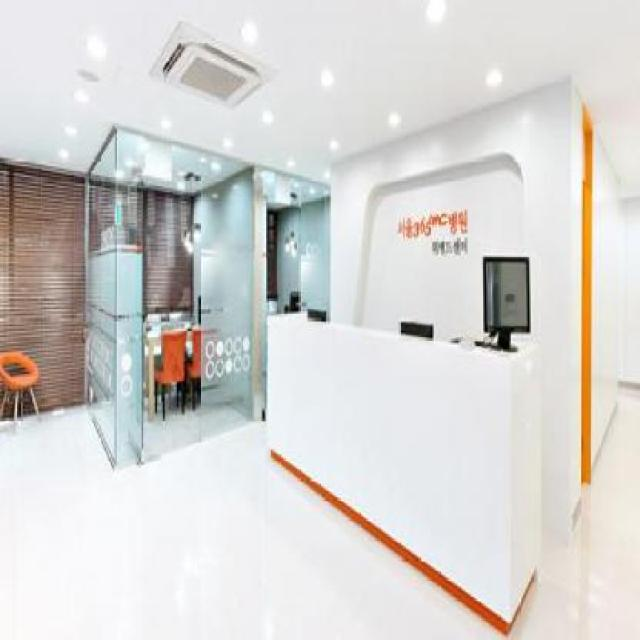frontdesk: (251, 300, 550, 640)
